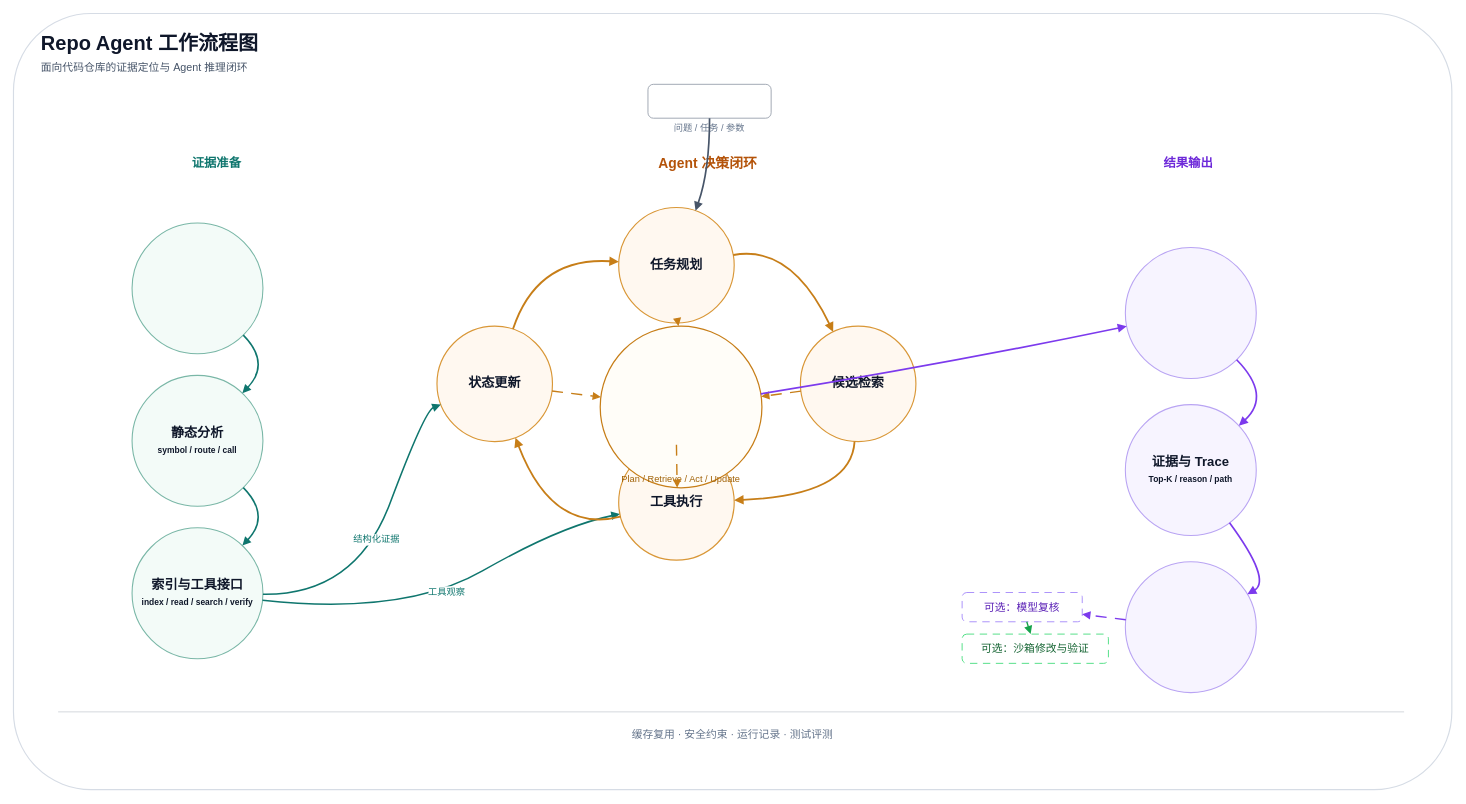
Some shapes in this 1466 by 804 pixel diagram are drawn without their labels. Each missing label, with the centre of its shape:
"Repo Agent" belongs at point 680,406.
"定位答案 file / line / snippet" belongs at point 1190,313.
"报告与记录 report / run / audit" belongs at point 1190,627.
"本地代码仓库 source files" belongs at point 197,288.
"用户请求" belongs at point 709,100.
